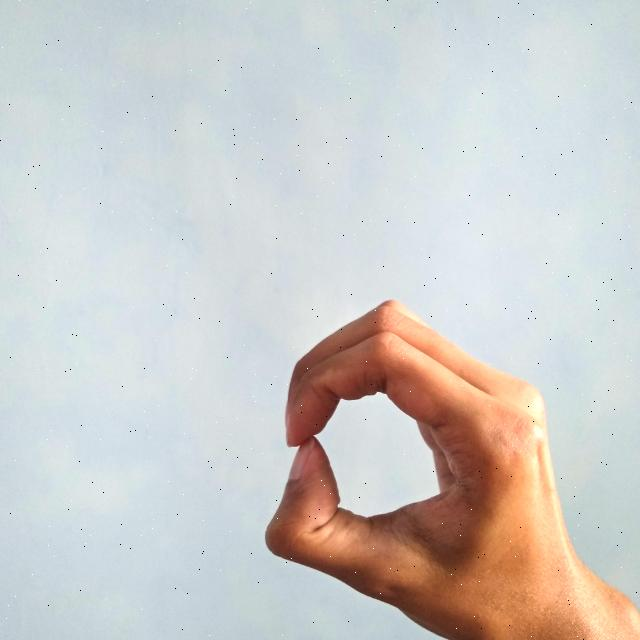O: (255, 290, 640, 640)
